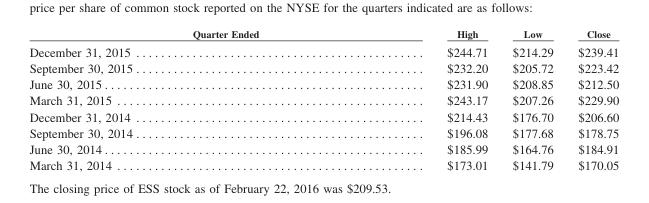table: (28, 29, 618, 171)
table column: (28, 29, 352, 171), (352, 29, 499, 171), (499, 29, 565, 171), (565, 29, 618, 171)
table column header: (28, 29, 618, 42)
table row: (28, 42, 618, 60), (28, 76, 618, 93), (28, 60, 618, 76), (28, 93, 618, 109), (28, 109, 618, 125), (28, 125, 618, 141), (28, 141, 618, 157), (28, 157, 618, 171), (28, 29, 618, 42)
